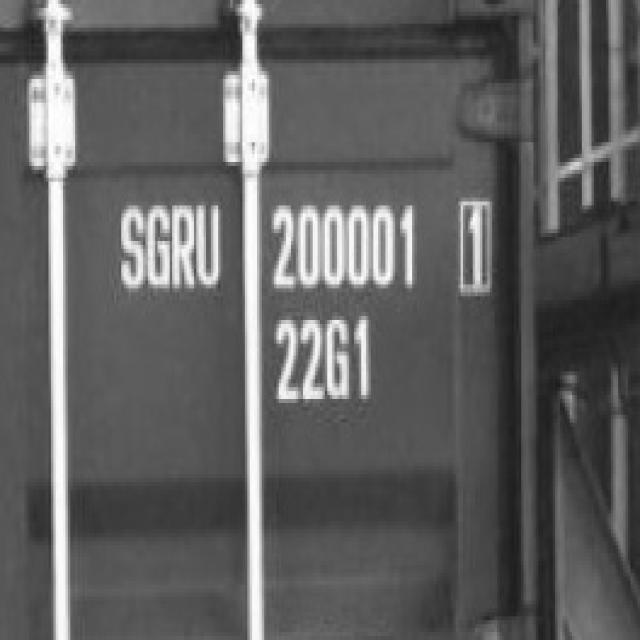dv: (444, 188, 500, 302)
owner: (108, 186, 227, 302)
serial: (264, 188, 420, 298)
size: (266, 305, 382, 408)
